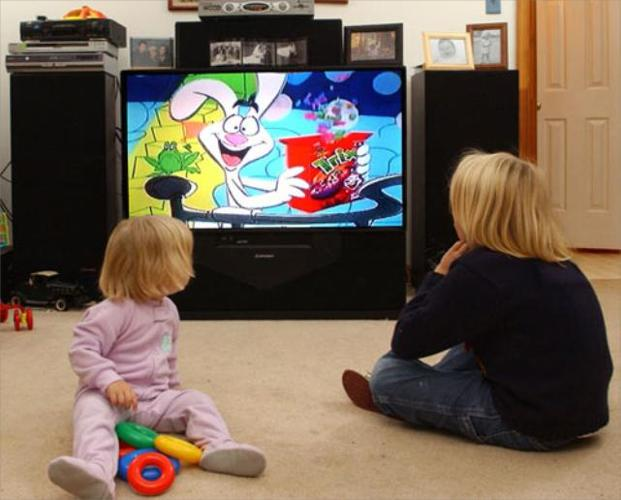person: (341, 152, 609, 446)
